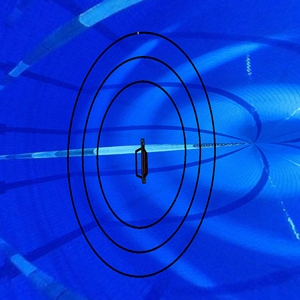circle: (66, 29, 218, 281)
submarine: (129, 137, 152, 185)
